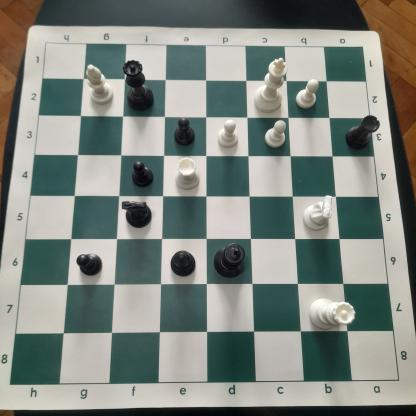black-bishop: (168, 247, 198, 278)
black-king: (212, 241, 249, 280)
black-knight: (121, 197, 154, 229)
black-pawn: (130, 158, 156, 188), (75, 250, 103, 277), (172, 115, 196, 146)
black-queen: (121, 58, 156, 111)
black-rook: (343, 113, 381, 152)
white-bishop: (85, 62, 115, 106)
white-king: (252, 54, 290, 115)
white-knight: (298, 192, 337, 232)
white-pawn: (293, 77, 320, 110), (216, 118, 241, 150), (263, 118, 287, 149)
white-queen: (307, 293, 359, 333)
white-rook: (174, 157, 202, 192)
